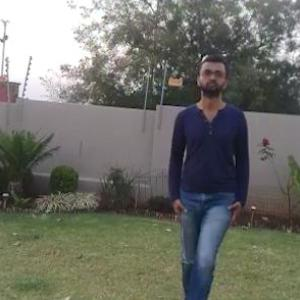follow: (160, 35, 257, 299)
